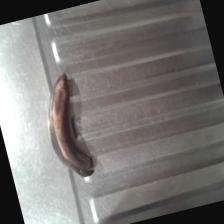Banana Rotten: (33, 61, 110, 190)
